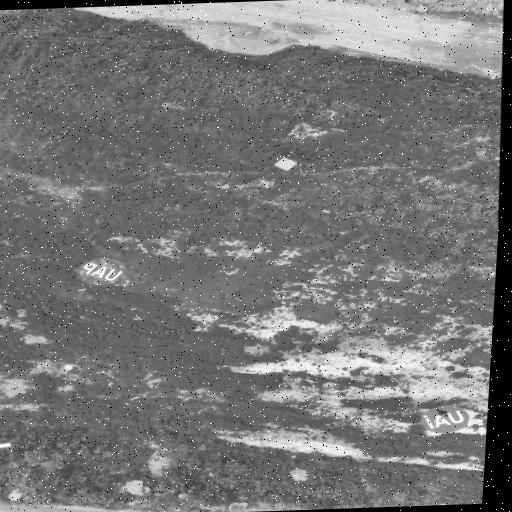uai: (421, 404, 468, 432)
uap: (76, 257, 125, 283)
